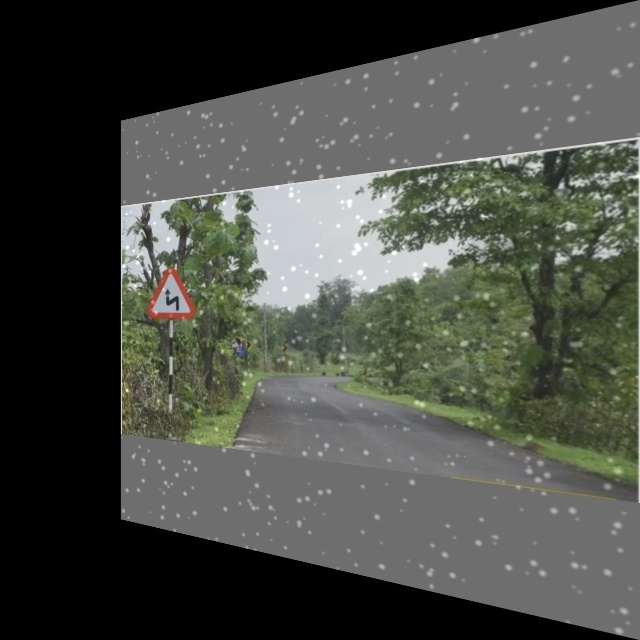Left_Reverse_Bend: (148, 265, 192, 318)
